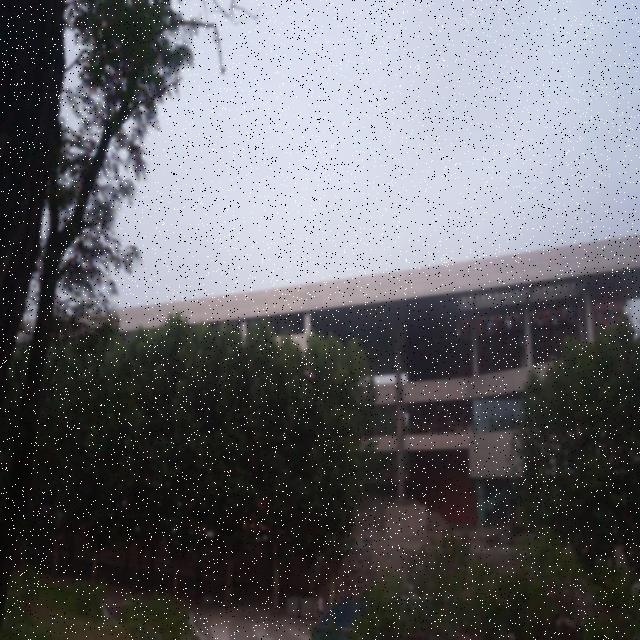UAV: (304, 370, 314, 380)
